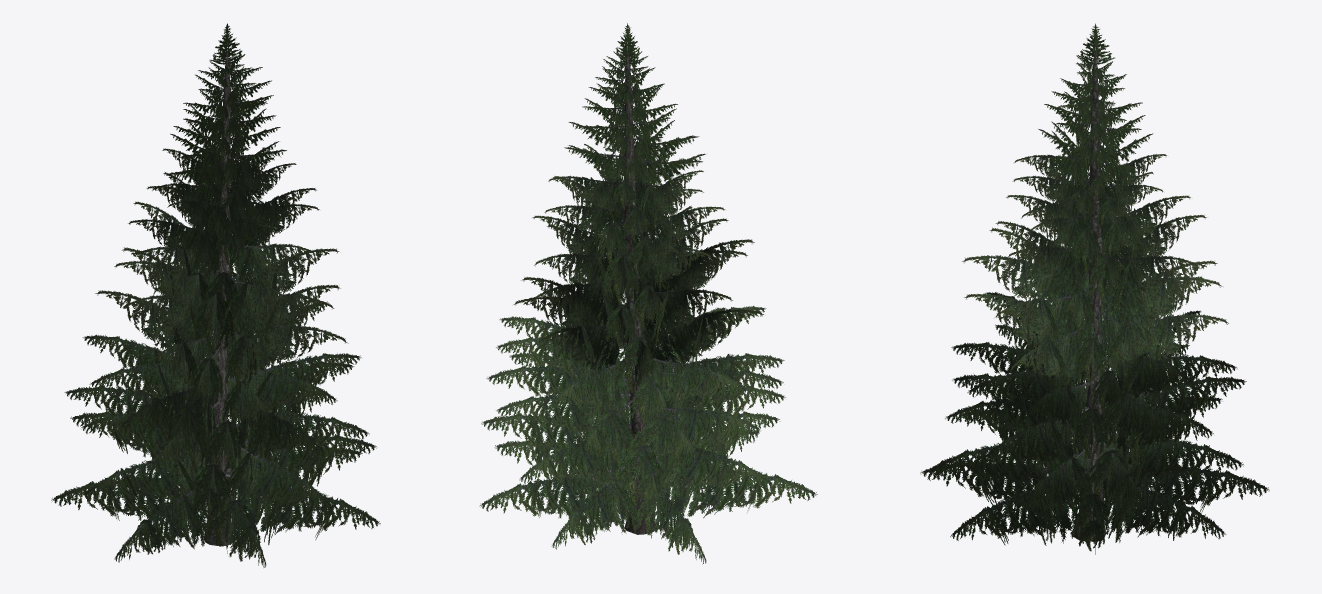
The model's file is AlpinePlant03_DoubleFace.FBX.
3 renders of one model, left to right at view 1: azimuth 30°, elevation 25°; view 2: azimuth 150°, elevation 25°; view 3: azimuth 270°, elevation 25°, orthographic. The views are drawn at different scales.
Visible parts, largest first — view 1: AlpinePlant03; view 2: AlpinePlant03; view 3: AlpinePlant03.
Boxes of the visible parts, x1=… form: AlpinePlant03: x1=51, y1=23, x2=380, y2=567; AlpinePlant03: x1=479, y1=23, x2=817, y2=564; AlpinePlant03: x1=920, y1=23, x2=1269, y2=554.
Size of the model in its own units: 880 by 1272 by 889.
Materials: 2 (2 with a texture image).
